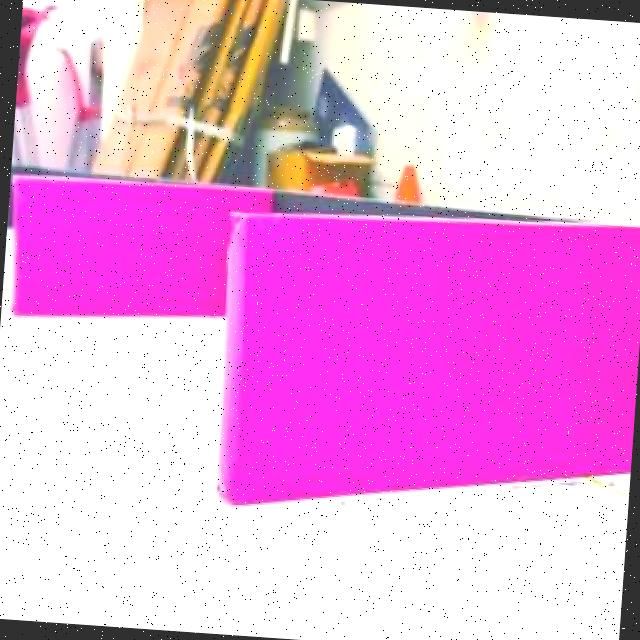xparking: (217, 213, 640, 486), (6, 170, 229, 331)
